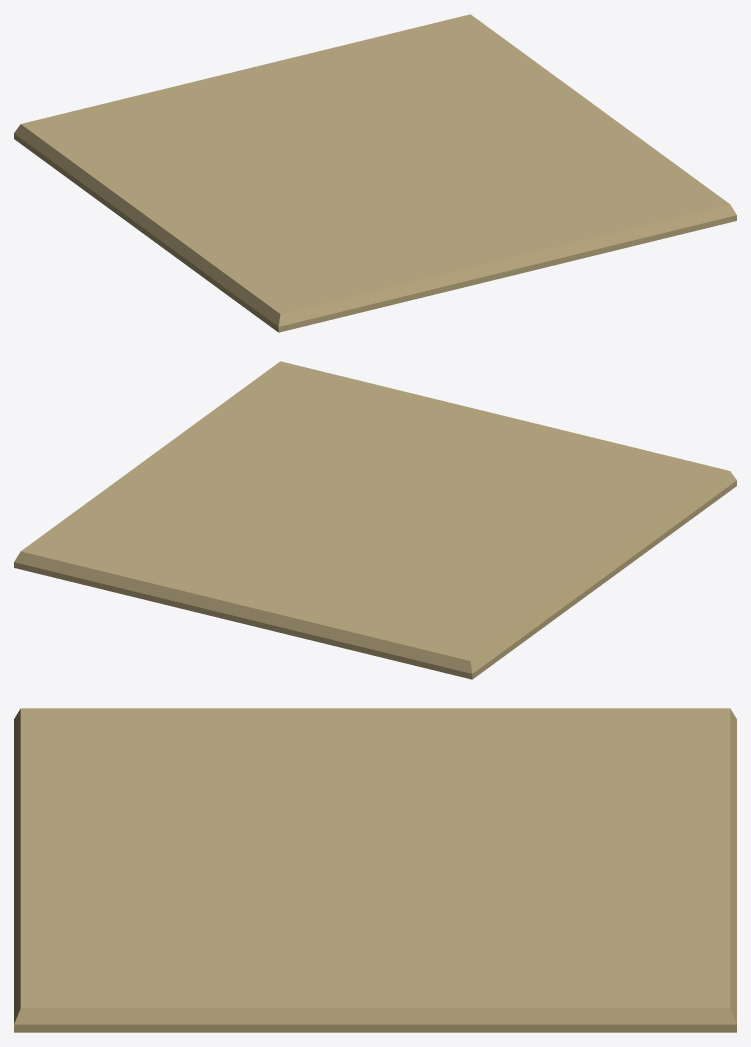
Rendered from Sidewalk.fbx.
The picture shows the model from 3 angles, top to bottom: view 1: azimuth 30°, elevation 25°; view 2: azimuth 150°, elevation 25°; view 3: azimuth 270°, elevation 25°; orthographic projection. The views are drawn at different scales.
Parts seen in each view (by area): view 1: Cube.001; view 2: Cube.001; view 3: Cube.001.
Boxes of the visible parts, x1,y1,x2,y2 form: Cube.001: (14,14,736,332); Cube.001: (14,361,736,679); Cube.001: (14,708,736,1032).
Bounding box in the file's own units: 700 × 22.97 × 700.
